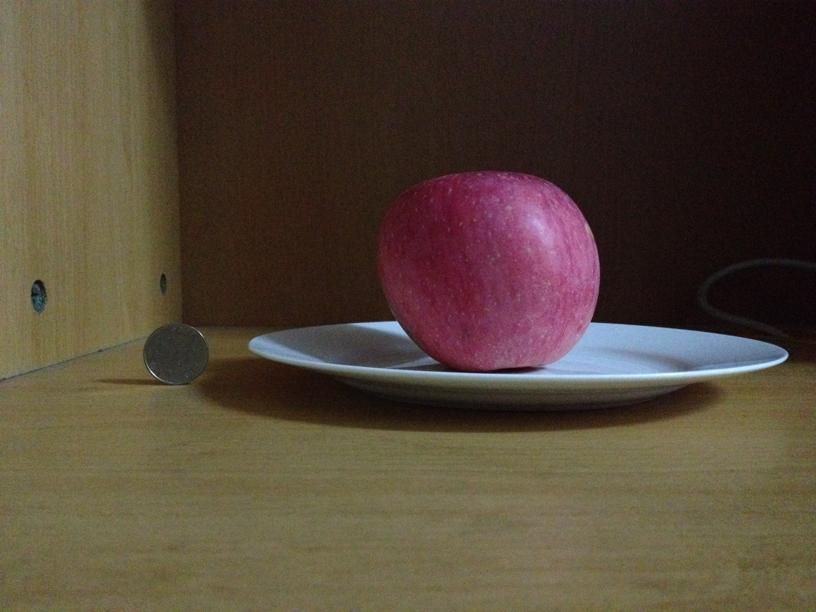apple: (379, 171, 599, 371)
coin: (142, 321, 209, 384)
